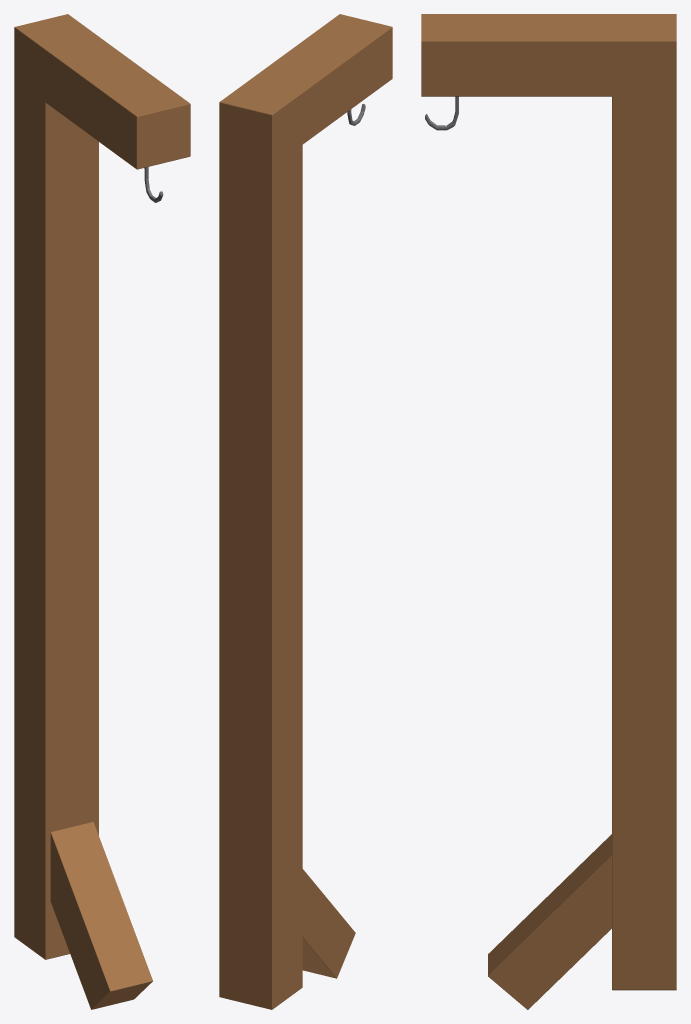
Rendered from pillar.fbx.
3 views of the same model, side by side, from view 1: azimuth 30°, elevation 25°; view 2: azimuth 150°, elevation 25°; view 3: azimuth 270°, elevation 25° (orthographic). The views are drawn at different scales.
Visible parts, largest first — view 1: Cube.032; view 2: Cube.032; view 3: Cube.032.
Boxes of the visible parts, <box> form: Cube.032: <box>14,14,190,1009</box>; Cube.032: <box>219,14,392,1009</box>; Cube.032: <box>421,14,676,1009</box>.
Size of the model in its own units: 46.15 by 764 by 182.
